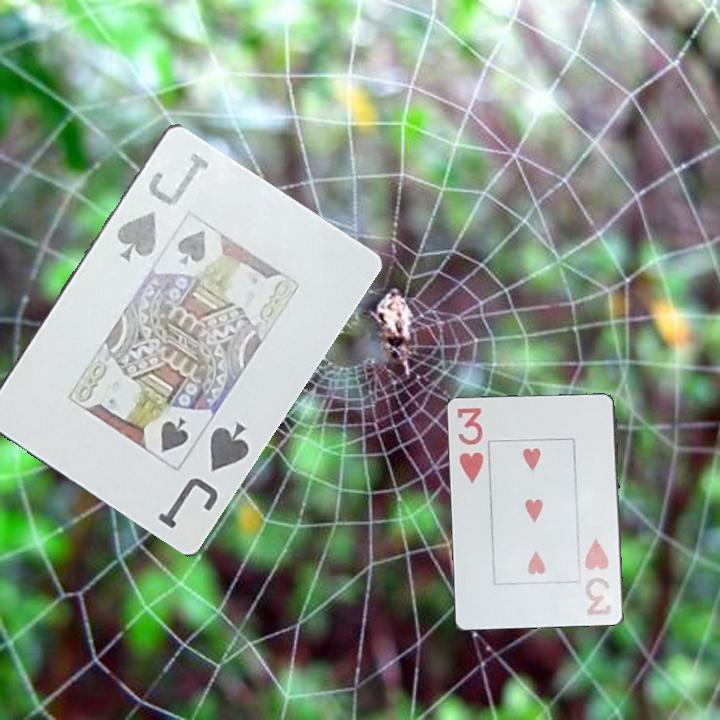3h: (452, 404, 487, 487), (582, 536, 616, 618)
Js: (112, 146, 212, 264), (154, 417, 252, 531)
